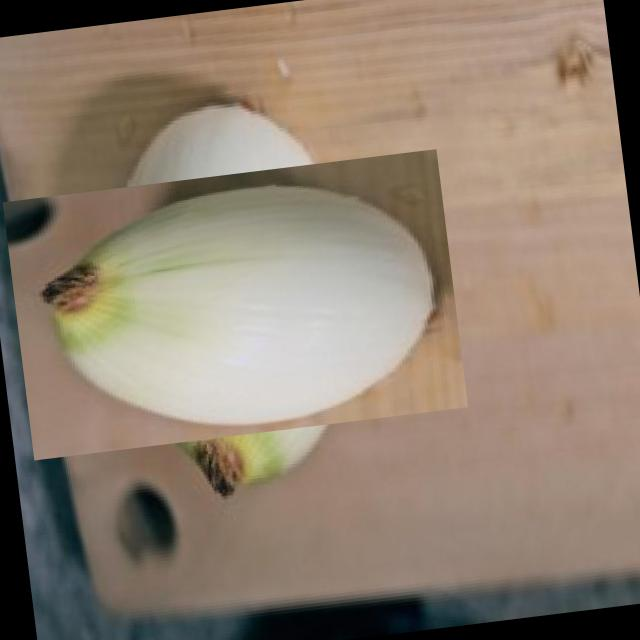Onion: (41, 109, 430, 498)
